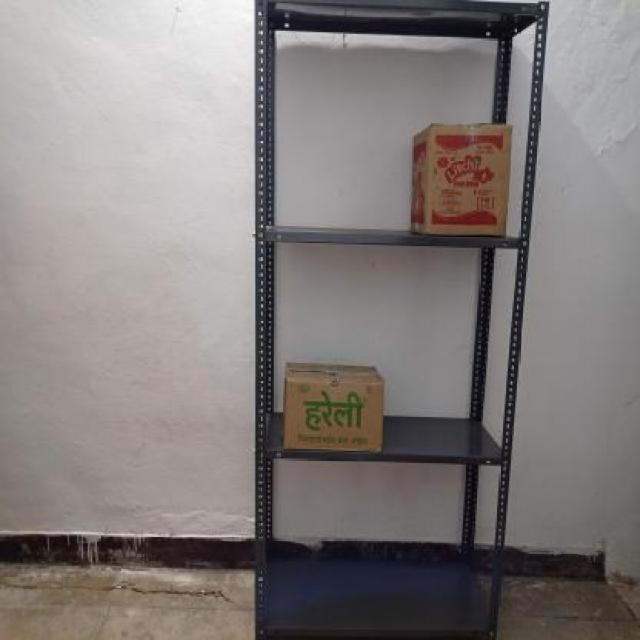box: (428, 122, 510, 238), (283, 378, 385, 452)
